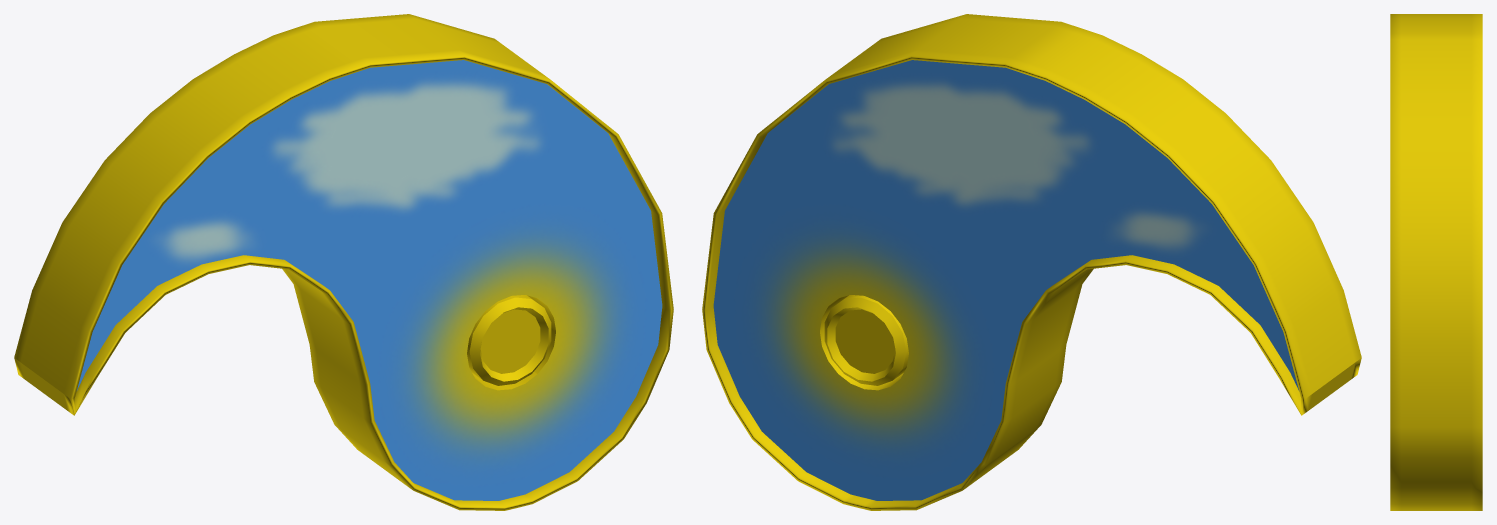
File: dialSUN.fbx
The picture shows the model from 3 angles, left to right: view 1: azimuth 30°, elevation 25°; view 2: azimuth 150°, elevation 25°; view 3: azimuth 270°, elevation 25°; orthographic projection. The views are drawn at different scales.
Visible parts, largest first — view 1: pCylinder10; view 2: pCylinder10; view 3: pCylinder10.
Part boxes in pixels (bbox=[...]): pCylinder10: bbox=[14, 14, 673, 510]; pCylinder10: bbox=[702, 14, 1361, 510]; pCylinder10: bbox=[1390, 14, 1482, 510].
Bounding box in the file's own units: 769 × 585 × 124.
